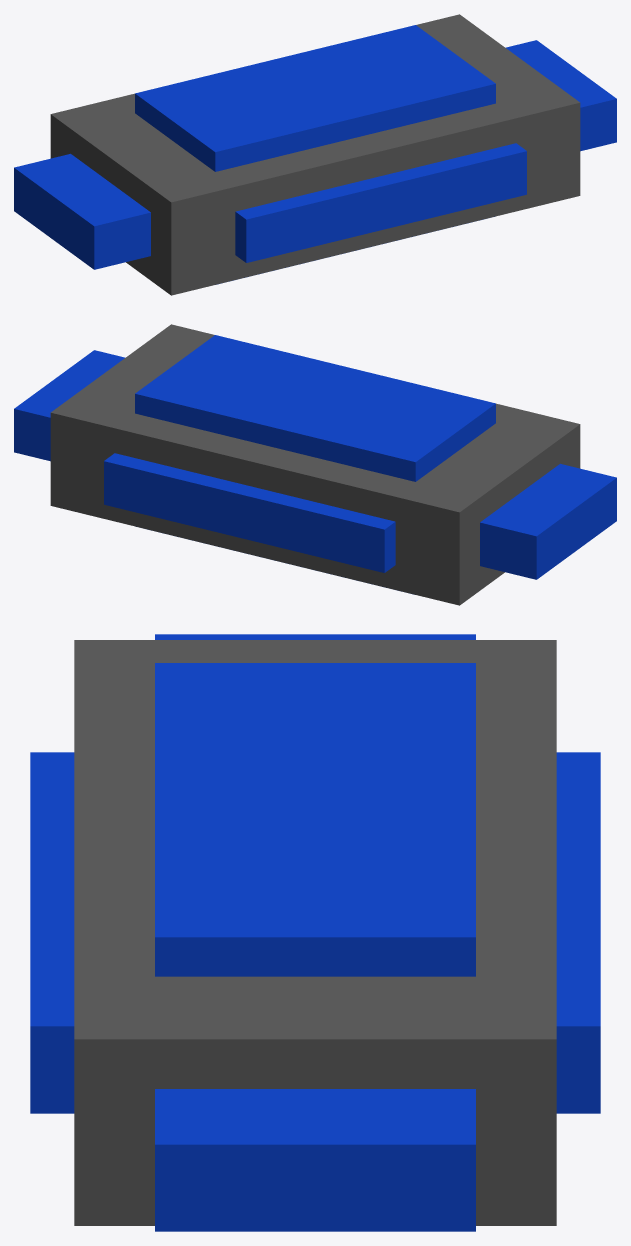
The model's file is tile_blue.FBX.
3 views of the same model, one above another, from view 1: azimuth 30°, elevation 25°; view 2: azimuth 150°, elevation 25°; view 3: azimuth 270°, elevation 25° (orthographic). The views are drawn at different scales.
Parts seen in each view (by area): view 1: Box001; view 2: Box001; view 3: Box001.
Part boxes in pixels (x1,y1,x2,y2): Box001: [14, 14, 616, 295]; Box001: [14, 324, 616, 605]; Box001: [30, 634, 600, 1231].
Size of the model in its own units: 46.57 by 11.31 by 21.99.
